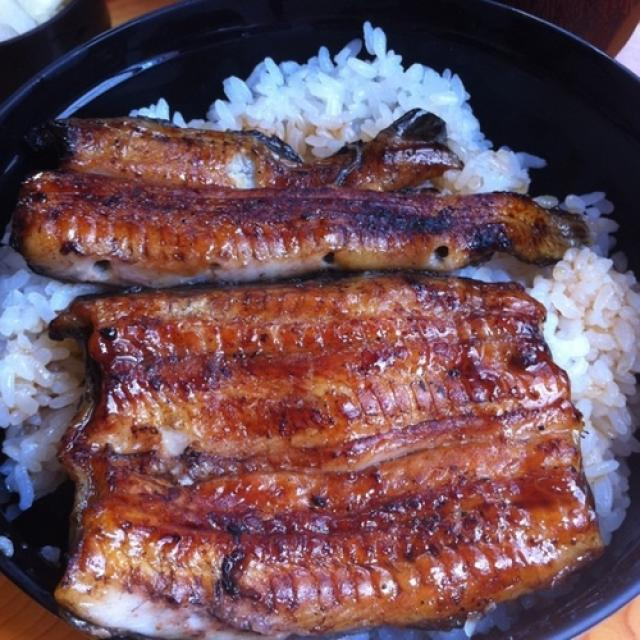熟制海鲜: (8, 26, 623, 624)
